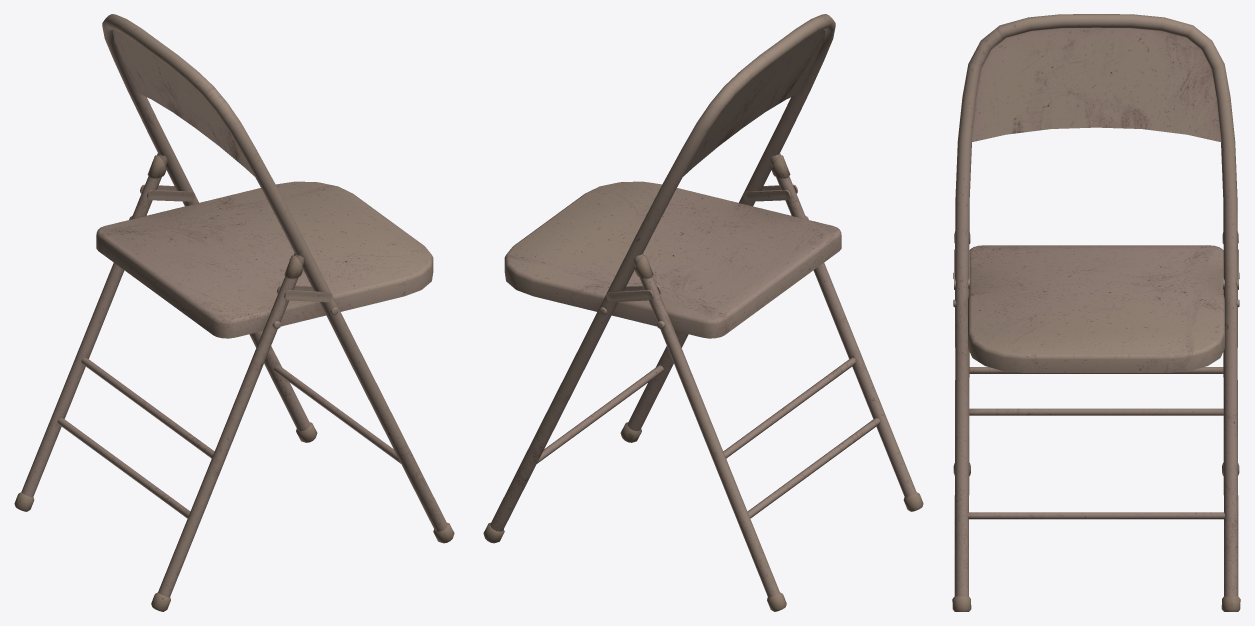
The model's file is metal_folding_chair.glb.
3 views of the same model, side by side, from view 1: azimuth 30°, elevation 25°; view 2: azimuth 150°, elevation 25°; view 3: azimuth 270°, elevation 25° (orthographic).
Parts seen in each view (by area): view 1: Cube.001, BezierCurve, BezierCurve.001, Plane.001, Cylinder.002, Plane; view 2: Cube.001, BezierCurve, BezierCurve.001, Plane.001, Cylinder.002, Plane; view 3: Cube.001, Plane.001, BezierCurve, Cylinder.002.
Part boxes in pixels (bbox=[...]): Cube.001: bbox=[96, 181, 433, 338]; BezierCurve: bbox=[102, 14, 454, 543]; BezierCurve.001: bbox=[14, 153, 303, 611]; Plane.001: bbox=[112, 29, 254, 176]; Cylinder.002: bbox=[57, 358, 400, 518]; Plane: bbox=[140, 184, 331, 302]; Cube.001: bbox=[504, 181, 841, 338]; BezierCurve: bbox=[483, 14, 835, 543]; BezierCurve.001: bbox=[634, 153, 923, 611]; Plane.001: bbox=[683, 29, 825, 176]; Cylinder.002: bbox=[537, 358, 880, 518]; Plane: bbox=[606, 184, 797, 302]; Cube.001: bbox=[968, 245, 1224, 372]; Plane.001: bbox=[971, 27, 1221, 142]; BezierCurve: bbox=[952, 14, 1240, 611]; Cylinder.002: bbox=[968, 367, 1224, 519].
Bounding box in the file's own units: 0.6024 × 0.9483 × 0.5009.
Materials: 1 (1 with a texture image).
